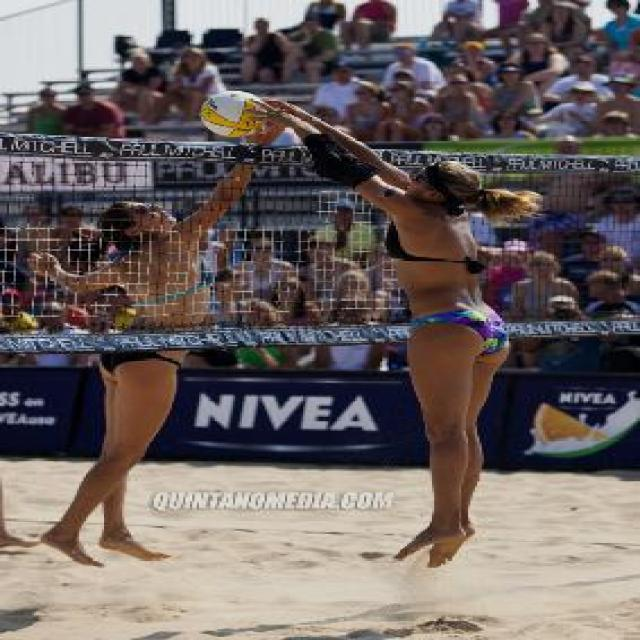volleyball: (200, 90, 270, 140)
